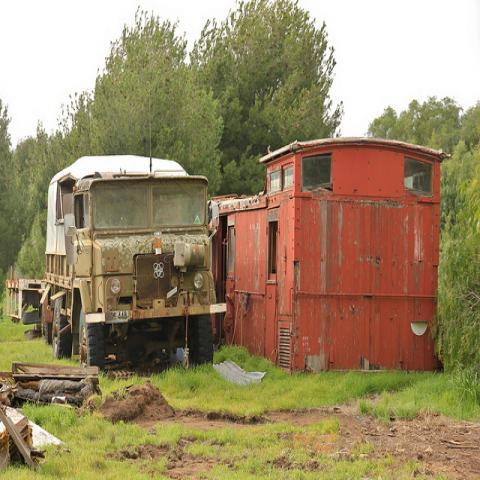truck: (44, 150, 218, 373)
